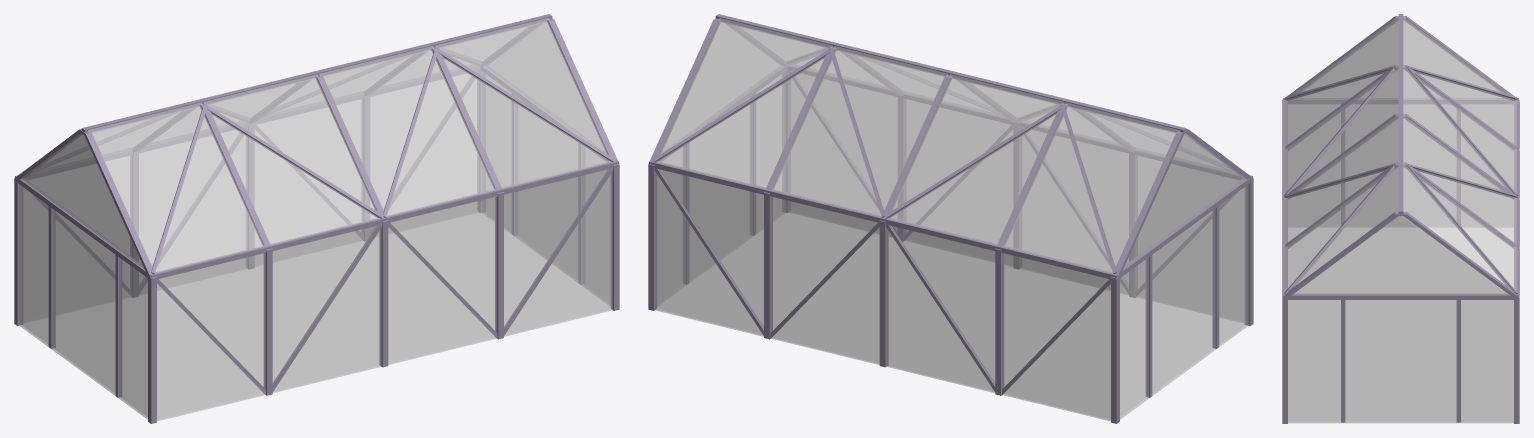
Rendered from greenhouse.gltf.
3 renders of one model, left to right at view 1: azimuth 30°, elevation 25°; view 2: azimuth 150°, elevation 25°; view 3: azimuth 270°, elevation 25°, orthographic. The views are drawn at different scales.
Parts seen in each view (by area): view 1: Cube.007, Cube.002, Cube.001, Cube, Cube.003, Cube.005, Cube.008, Cube.004, Cube.006, Cube.009, long-side-horizontal, a-frame2 (+15 smaller); view 2: Cube.007, Cube.002, Cube.001, Cube, Cube.003, Cube.005, Cube.008, Cube.004, Cube.006, Cube.009, long-side-horizontal, a-frame2 (+15 smaller); view 3: Cube.007, Cube.009, Cube.008, Cube.005, Cube.004, Cube.006, a-frame4, short-side-horizontal, short-side-verticle, long-side-horizontal, a-frame0, a-frame2 (+7 smaller).
Boxes of the visible parts, x1=… form: Cube.007: x1=19, y1=73, x2=610, y2=419; Cube.002: x1=255, y1=99, x2=496, y2=364; Cube.001: x1=23, y1=156, x2=265, y2=421; Cube: x1=139, y1=130, x2=381, y2=392; Cube.003: x1=370, y1=73, x2=612, y2=336; Cube.005: x1=267, y1=46, x2=495, y2=216; Cube.008: x1=35, y1=102, x2=264, y2=273; Cube.004: x1=147, y1=74, x2=380, y2=244; Cube.006: x1=379, y1=18, x2=611, y2=188; Cube.009: x1=21, y1=22, x2=605, y2=269; long-side-horizontal: x1=15, y1=65, x2=618, y2=279; a-frame2: x1=14, y1=129, x2=156, y2=423; Cube.007: x1=657, y1=73, x2=1248, y2=419; Cube.002: x1=771, y1=99, x2=1012, y2=364; Cube.001: x1=1002, y1=156, x2=1244, y2=421; Cube: x1=886, y1=130, x2=1128, y2=392; Cube.003: x1=655, y1=73, x2=897, y2=336; Cube.005: x1=772, y1=46, x2=1000, y2=216; Cube.008: x1=1003, y1=102, x2=1232, y2=273; Cube.004: x1=887, y1=74, x2=1120, y2=244; Cube.006: x1=656, y1=18, x2=888, y2=188; Cube.009: x1=662, y1=22, x2=1246, y2=269; long-side-horizontal: x1=649, y1=65, x2=1252, y2=279; a-frame2: x1=1111, y1=129, x2=1253, y2=423; Cube.007: x1=1288, y1=104, x2=1513, y2=423; Cube.009: x1=1293, y1=21, x2=1508, y2=294; Cube.008: x1=1285, y1=16, x2=1516, y2=145; Cube.005: x1=1285, y1=114, x2=1516, y2=243; Cube.004: x1=1285, y1=65, x2=1516, y2=192; Cube.006: x1=1285, y1=163, x2=1516, y2=290; a-frame4: x1=1282, y1=211, x2=1519, y2=423; short-side-horizontal: x1=1288, y1=98, x2=1513, y2=299; short-side-verticle: x1=1341, y1=104, x2=1460, y2=422; long-side-horizontal: x1=1283, y1=98, x2=1518, y2=296; a-frame0: x1=1282, y1=114, x2=1519, y2=246; a-frame2: x1=1282, y1=16, x2=1519, y2=148.
Size of the model in its own units: 40.5 by 20.32 by 20.5.
